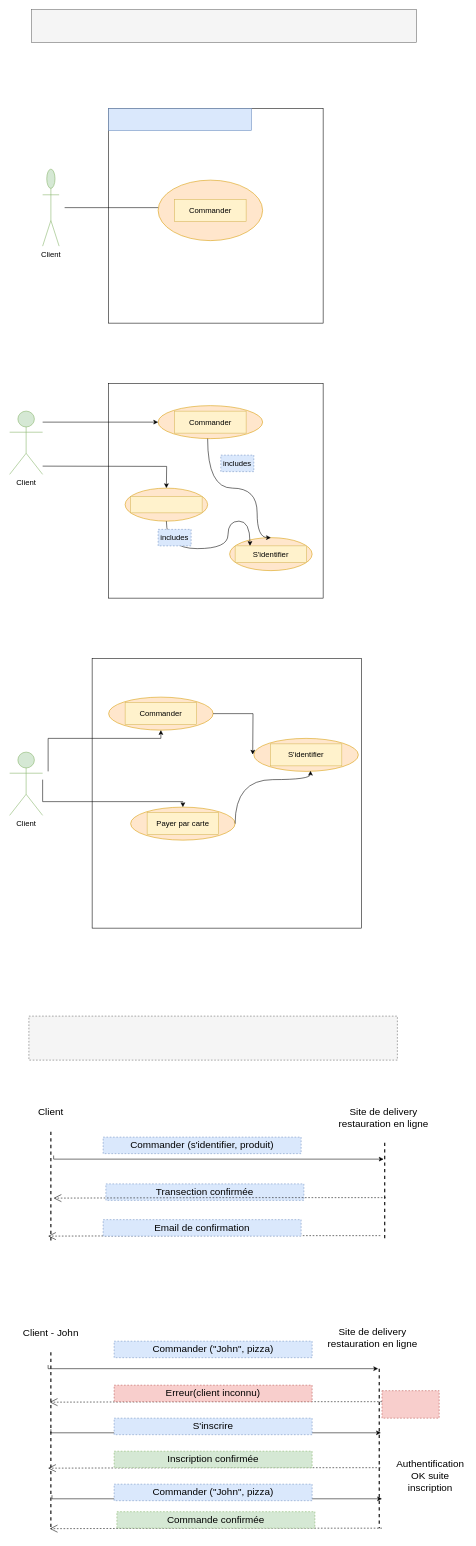
Some shapes in this 476 by 1546 pixel diagram are drawn without their labels. The shapes that lost their labels are listed below. From the top down, each one's box as (x1, y1, x2, y2) in pixels, then its label:
(31, 9, 417, 43): Diagramme des cas d'utilisation
(108, 108, 252, 131): Site de delivery restauration en ligne
(130, 496, 202, 513): Gérer son compte
(28, 1016, 397, 1060): Diagramme de séquence (analyse)
(381, 1390, 439, 1418): ID inconnu
